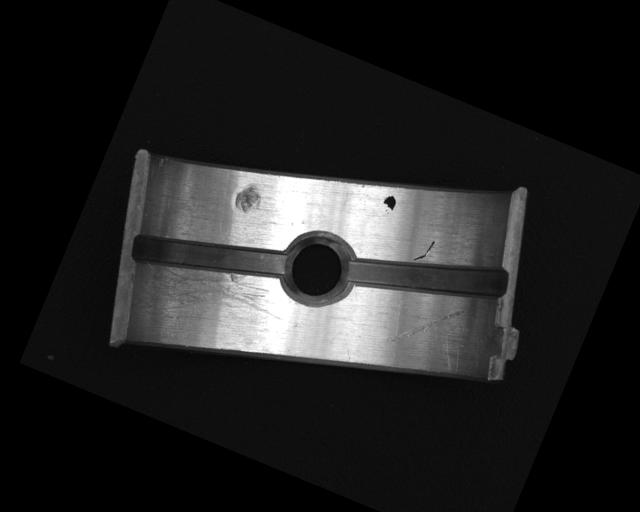blot: (378, 192, 399, 216)
bruise: (230, 179, 267, 219)
gap: (344, 214, 512, 337), (127, 198, 294, 315)
hole: (272, 224, 361, 315)
nick: (383, 285, 468, 369), (412, 234, 437, 266)
scratch: (119, 233, 296, 364)
